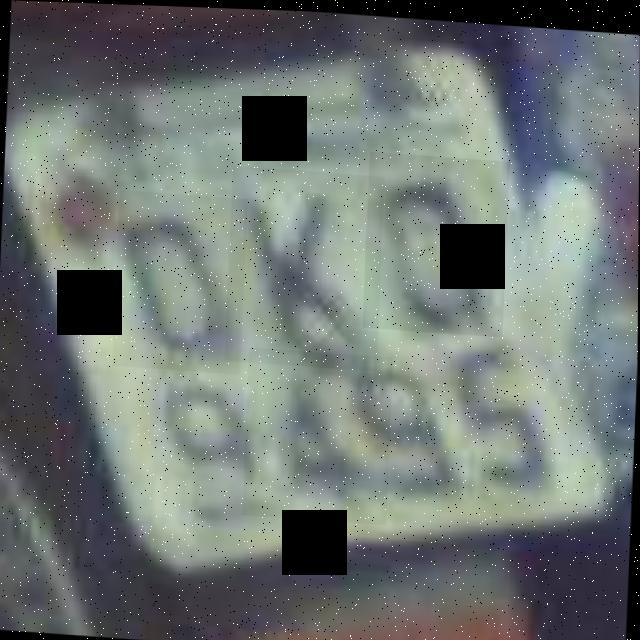4: (243, 345, 394, 522)
5: (432, 309, 574, 498)
9: (141, 358, 300, 528), (339, 326, 470, 499)
K: (224, 164, 385, 368)
O: (363, 148, 510, 333), (112, 188, 247, 372)
